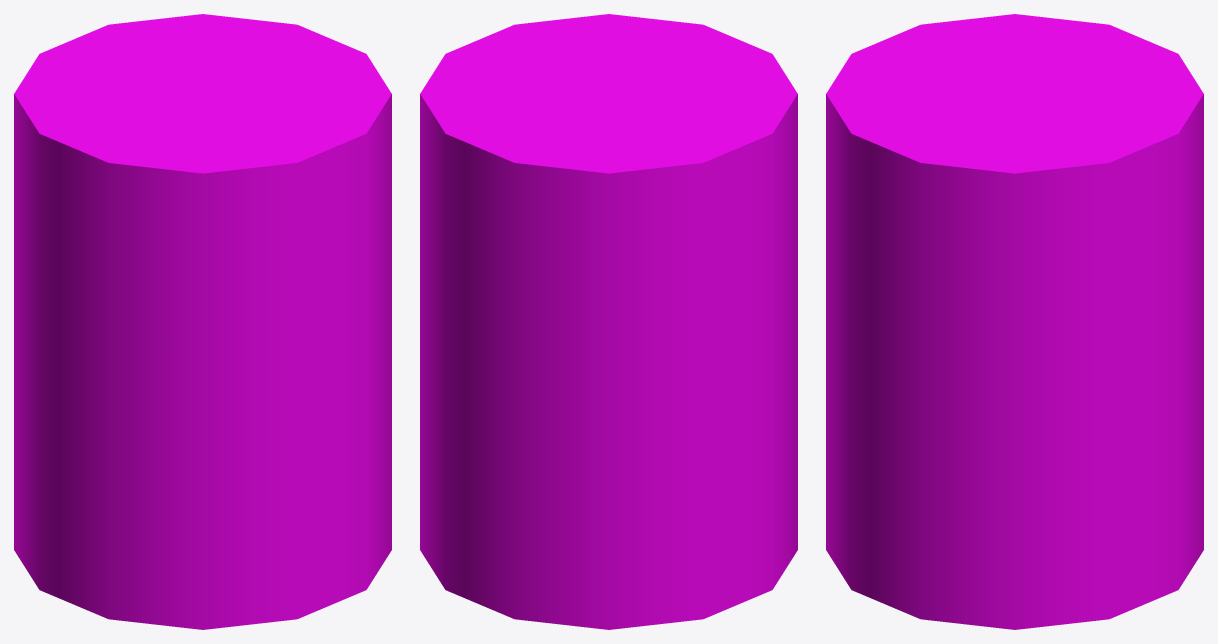
The model's file is flower-coneflower.collision.glb.
The picture shows the model from 3 angles, left to right: view 1: azimuth 30°, elevation 25°; view 2: azimuth 150°, elevation 25°; view 3: azimuth 270°, elevation 25°; orthographic projection.
Parts seen in each view (by area): view 1: flower_coneflower_collision_collision; view 2: flower_coneflower_collision_collision; view 3: flower_coneflower_collision_collision.
Boxes of the visible parts, x1,y1,x2,y2 form: flower_coneflower_collision_collision: [14, 14, 391, 629]; flower_coneflower_collision_collision: [420, 14, 797, 629]; flower_coneflower_collision_collision: [826, 14, 1203, 629].
Size of the model in its own units: 0.6 by 0.8 by 0.6.
